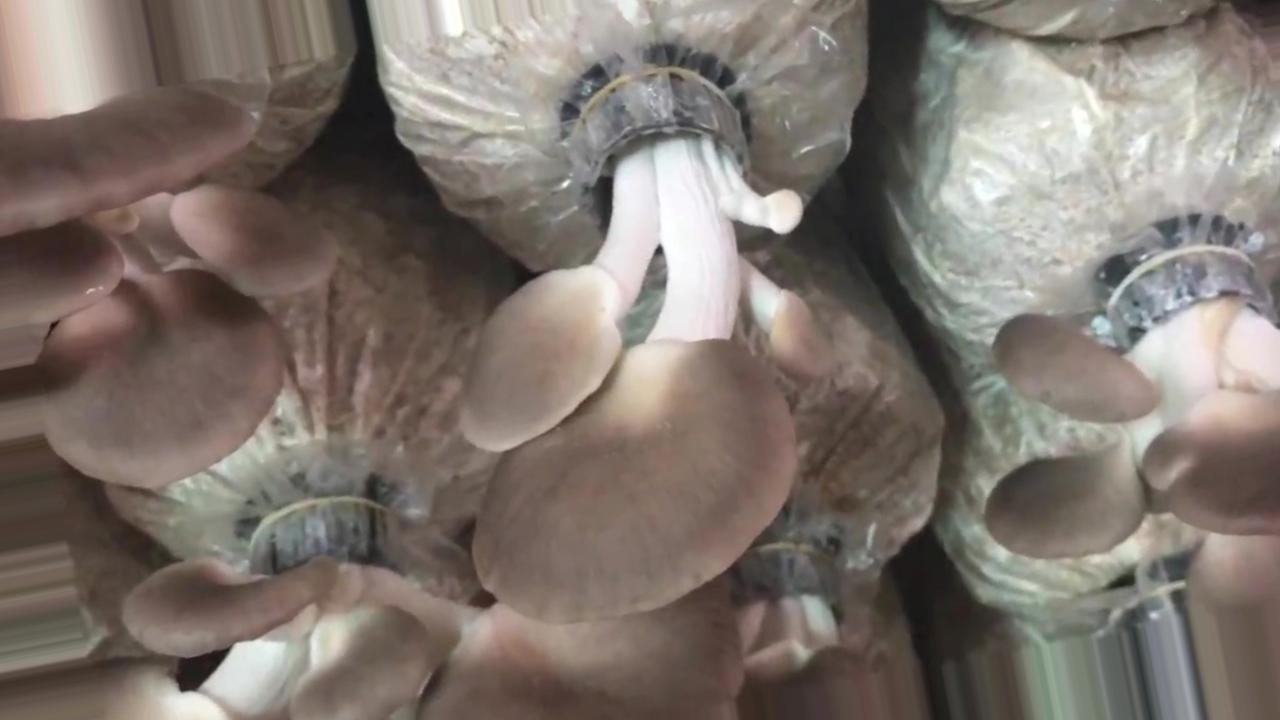nam: (471, 45, 831, 618), (117, 478, 752, 720), (1, 82, 346, 493), (980, 223, 1280, 558), (739, 502, 885, 720)
